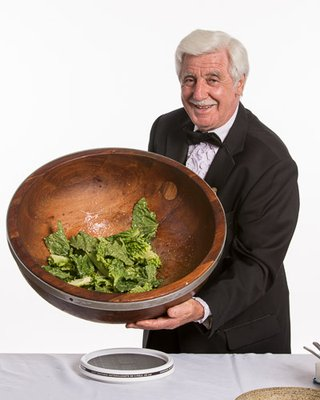sushi: (4, 146, 227, 321)
